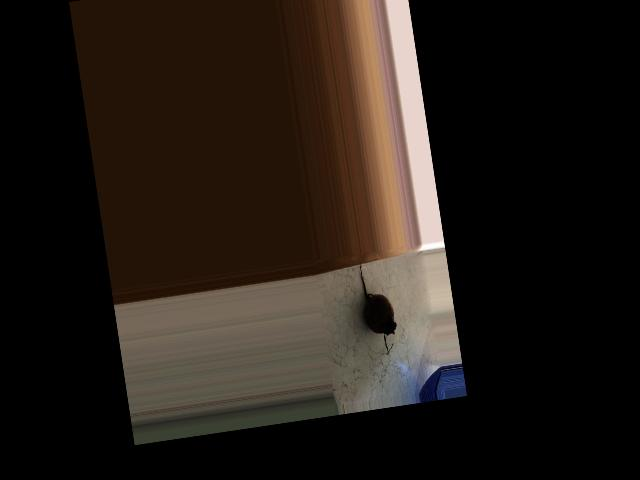beet: (356, 256, 399, 356)
